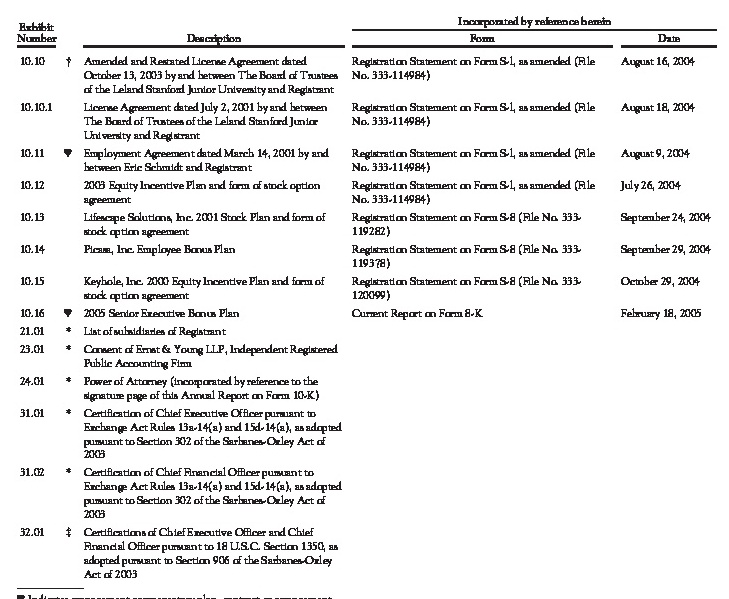table: (0, 0, 729, 599)
